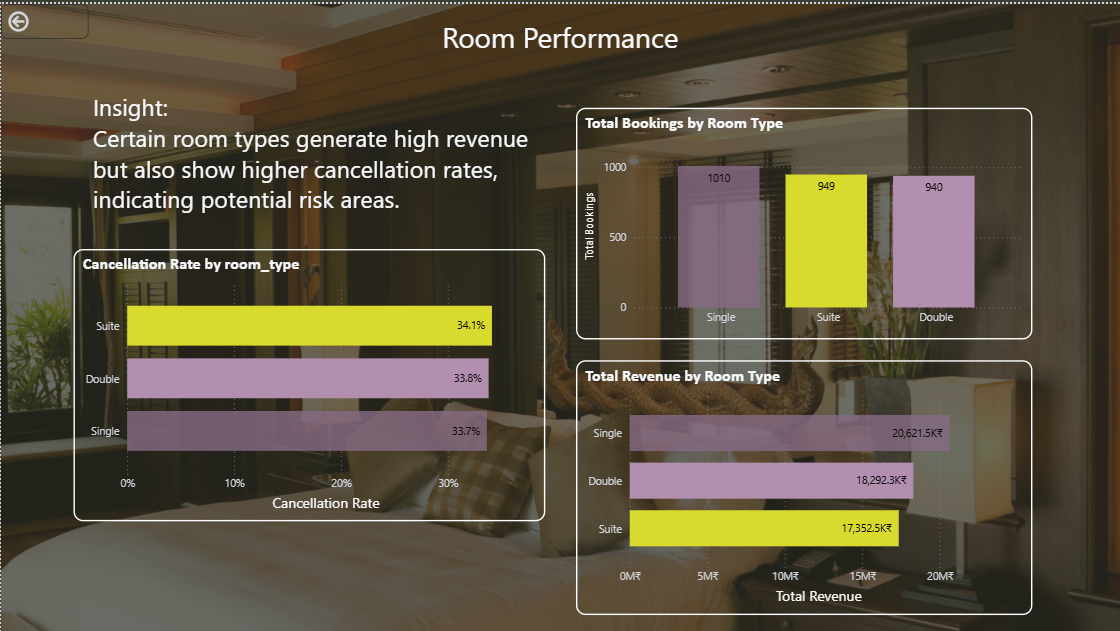

What the dashboard file says about the page in this screenshot:
{"tool":"powerbi","page":{"name":"Room Performance","canvas":[1280,720],"ordinal":4},"visuals":[{"type":"clusteredBarChart","title":"Total Revenue by Room Type","fields":{"Category":["rooms_large.room_type"],"Y":["Measure.Total Revenue"]},"box":[657.3,407.5,521.4,290.9],"z":0},{"type":"clusteredColumnChart","title":"Total Bookings by Room Type","fields":{"Category":["rooms_large.room_type"],"Y":["Measure.Total Bookings"]},"box":[657.3,118,521.4,264.8],"z":1000},{"type":"clusteredBarChart","fields":{"Category":["rooms_large.room_type"],"Y":["Measure.Cancellation Rate"]},"box":[82.3,279.9,539.3,311.5],"z":2000},{"type":"textbox","box":[100,11.4,1078.6,62.9],"z":3000},{"type":"actionButton","box":[0,0,100,40],"z":4000},{"type":"textbox","box":[100.2,94.7,537.9,185.2],"z":5000}]}

Visuals, with their boxes in screenshot pixels (x1, y1, x2, y2), scaled from the page's 1280x720 canvas onto the 1120x631 screenshot:
"Total Revenue by Room Type" clusteredBarChart: BBox(575, 357, 1031, 612)
"Total Bookings by Room Type" clusteredColumnChart: BBox(575, 103, 1031, 335)
clusteredBarChart - rooms_large.room_type x Measure.Cancellation Rate: BBox(72, 245, 544, 518)
textbox: BBox(88, 10, 1031, 65)
actionButton: BBox(0, 0, 88, 35)
textbox: BBox(88, 83, 558, 245)
